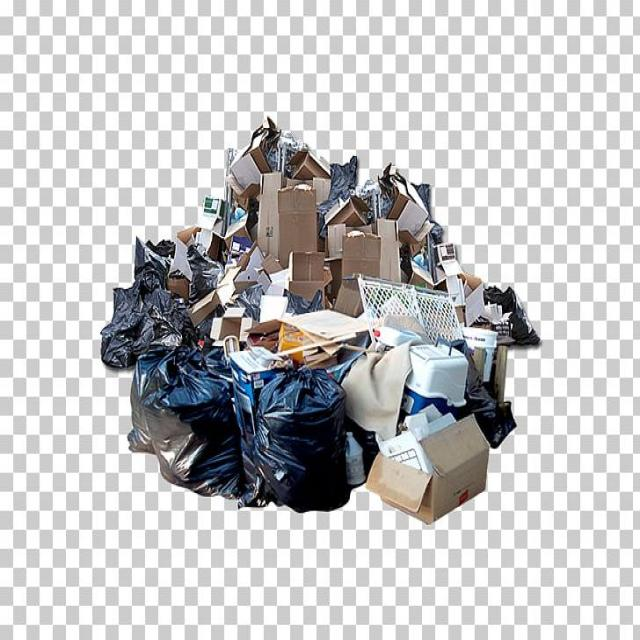Paper -Biodegradable-: (102, 114, 538, 518)
